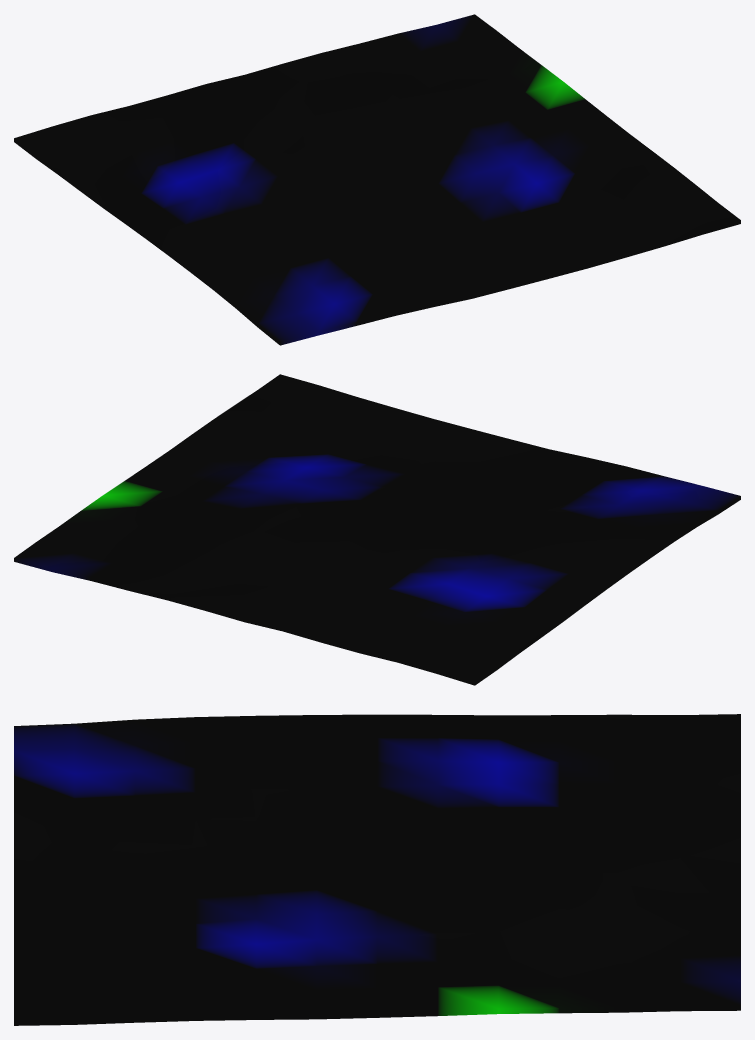
The model's file is coast_3_6.glb.
The picture shows the model from 3 angles, top to bottom: view 1: azimuth 30°, elevation 25°; view 2: azimuth 150°, elevation 25°; view 3: azimuth 270°, elevation 25°; orthographic projection. The views are drawn at different scales.
Visible parts, largest first — view 1: terrain; view 2: terrain; view 3: terrain.
Boxes of the visible parts, <box> form: terrain: <box>14,14,740,345</box>; terrain: <box>14,374,740,685</box>; terrain: <box>14,714,740,1025</box>.
Bounding box in the file's own units: 192 × 9.61 × 192.
